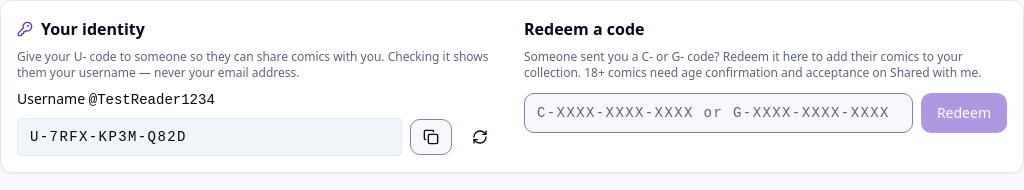
Test: SharingCodesCard › groups and corrects what somebody types, the way the server will read it
Type "c7rfxkpimq82o" into the field with placeholder "C-XXXX-XXXX-XXXX or G-XXXX-XXXX-XXXX". click: (718, 113)
box: [524, 93, 913, 133]
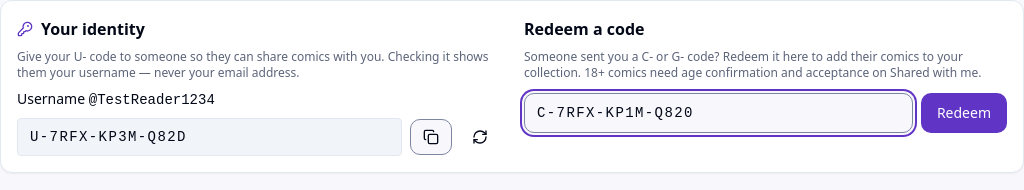
Expected: the field with placeholder "C-XXXX-XXXX-XXXX or G-XXXX-XXXX-XXXX" holds "C-7RFX-KP1M-Q820", [524, 93, 913, 133]
